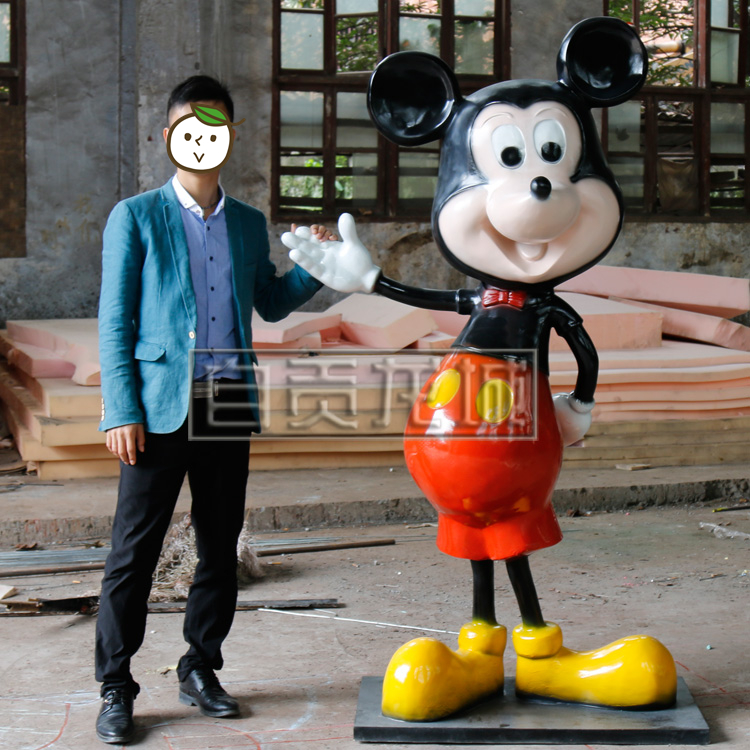Mickey: (360, 14, 659, 292)
